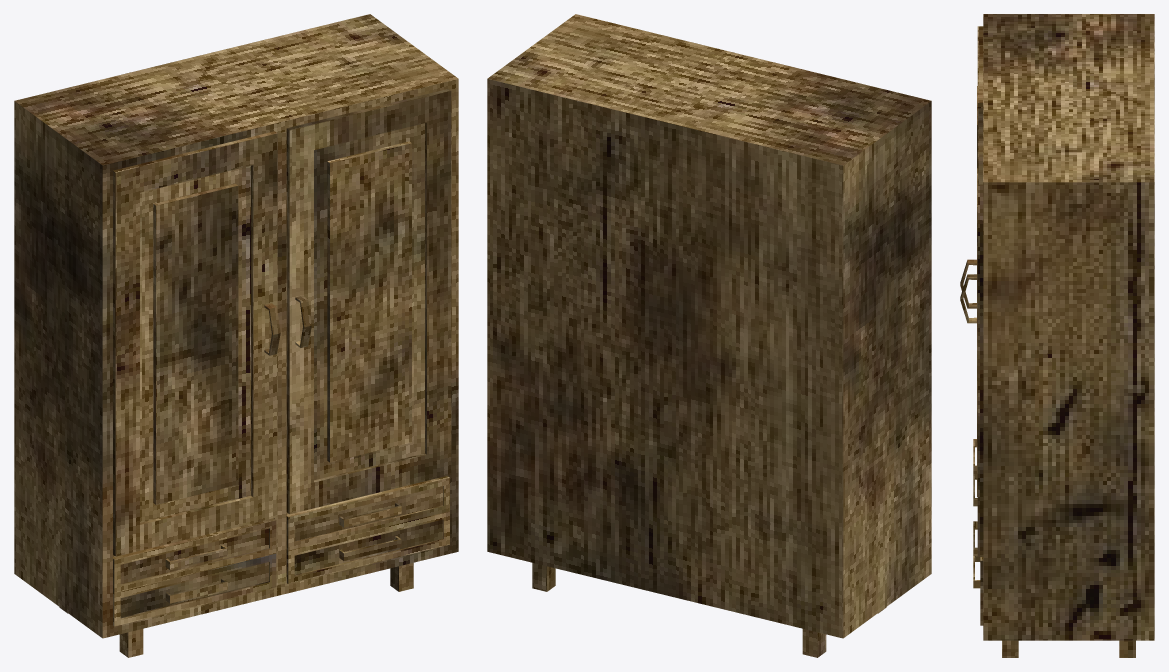
File: psx_closet.glb
3 views of the same model, side by side, from view 1: azimuth 30°, elevation 25°; view 2: azimuth 150°, elevation 25°; view 3: azimuth 270°, elevation 25° (orthographic). The views are drawn at different scales.
Parts seen in each view (by area): view 1: SM_Closet_6, SM_CLoset_Door_02_4, SM_Closet_Door_01_5, SM_Closet_Drawer_03_3, SM_Closet_Drawer_01_1, SM_Closet_Drawer_02_0, SM_Closet_Drawer_04_2; view 2: SM_Closet_6; view 3: SM_Closet_6, SM_CLoset_Door_02_4, SM_Closet_Door_01_5.
Part boxes in pixels (bbox=[...]): SM_Closet_6: bbox=[14, 14, 458, 657]; SM_CLoset_Door_02_4: bbox=[286, 89, 451, 514]; SM_Closet_Door_01_5: bbox=[113, 131, 280, 556]; SM_Closet_Drawer_03_3: bbox=[286, 476, 449, 550]; SM_Closet_Drawer_01_1: bbox=[113, 518, 276, 592]; SM_Closet_Drawer_02_0: bbox=[113, 554, 276, 626]; SM_Closet_Drawer_04_2: bbox=[286, 511, 449, 583]; SM_Closet_6: bbox=[487, 14, 931, 657]; SM_Closet_6: bbox=[983, 14, 1154, 657]; SM_CLoset_Door_02_4: bbox=[960, 108, 983, 556]; SM_Closet_Door_01_5: bbox=[960, 26, 983, 308].
Size of the model in its own units: 1.63 by 2.22 by 0.7949.
Materials: 1 (1 with a texture image).
